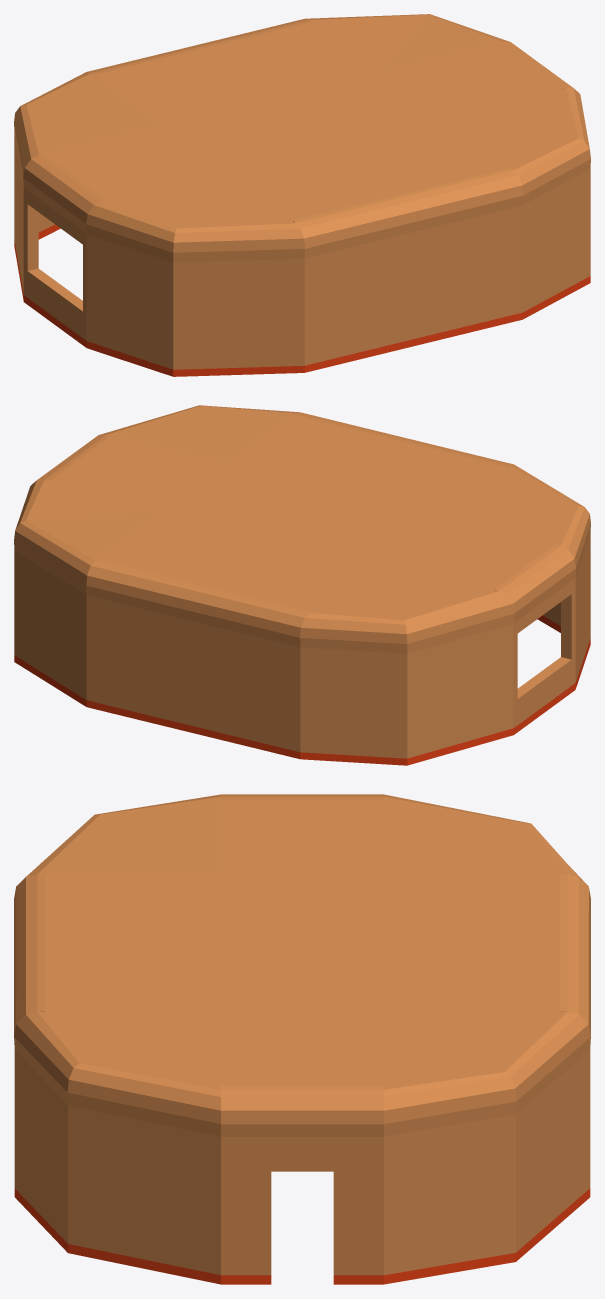
File: InteriorOffice.fbx
3 views of the same model, one above another, from view 1: azimuth 30°, elevation 25°; view 2: azimuth 150°, elevation 25°; view 3: azimuth 270°, elevation 25° (orthographic). The views are drawn at different scales.
Visible parts, largest first — view 1: Wall5; view 2: Wall5; view 3: Wall5.
Boxes of the visible parts, x1,y1,x2,y2 form: Wall5: [14, 14, 590, 376]; Wall5: [14, 405, 590, 765]; Wall5: [14, 794, 590, 1284].
Size of the model in its own units: 11.35 by 3.15 by 8.85.
